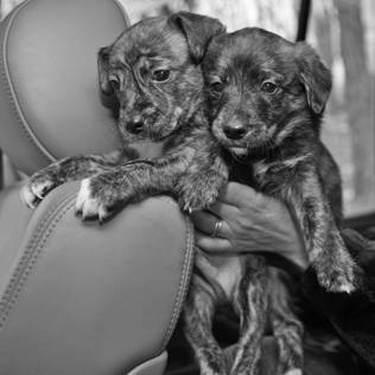dog: (17, 4, 286, 369), (190, 13, 371, 372)
